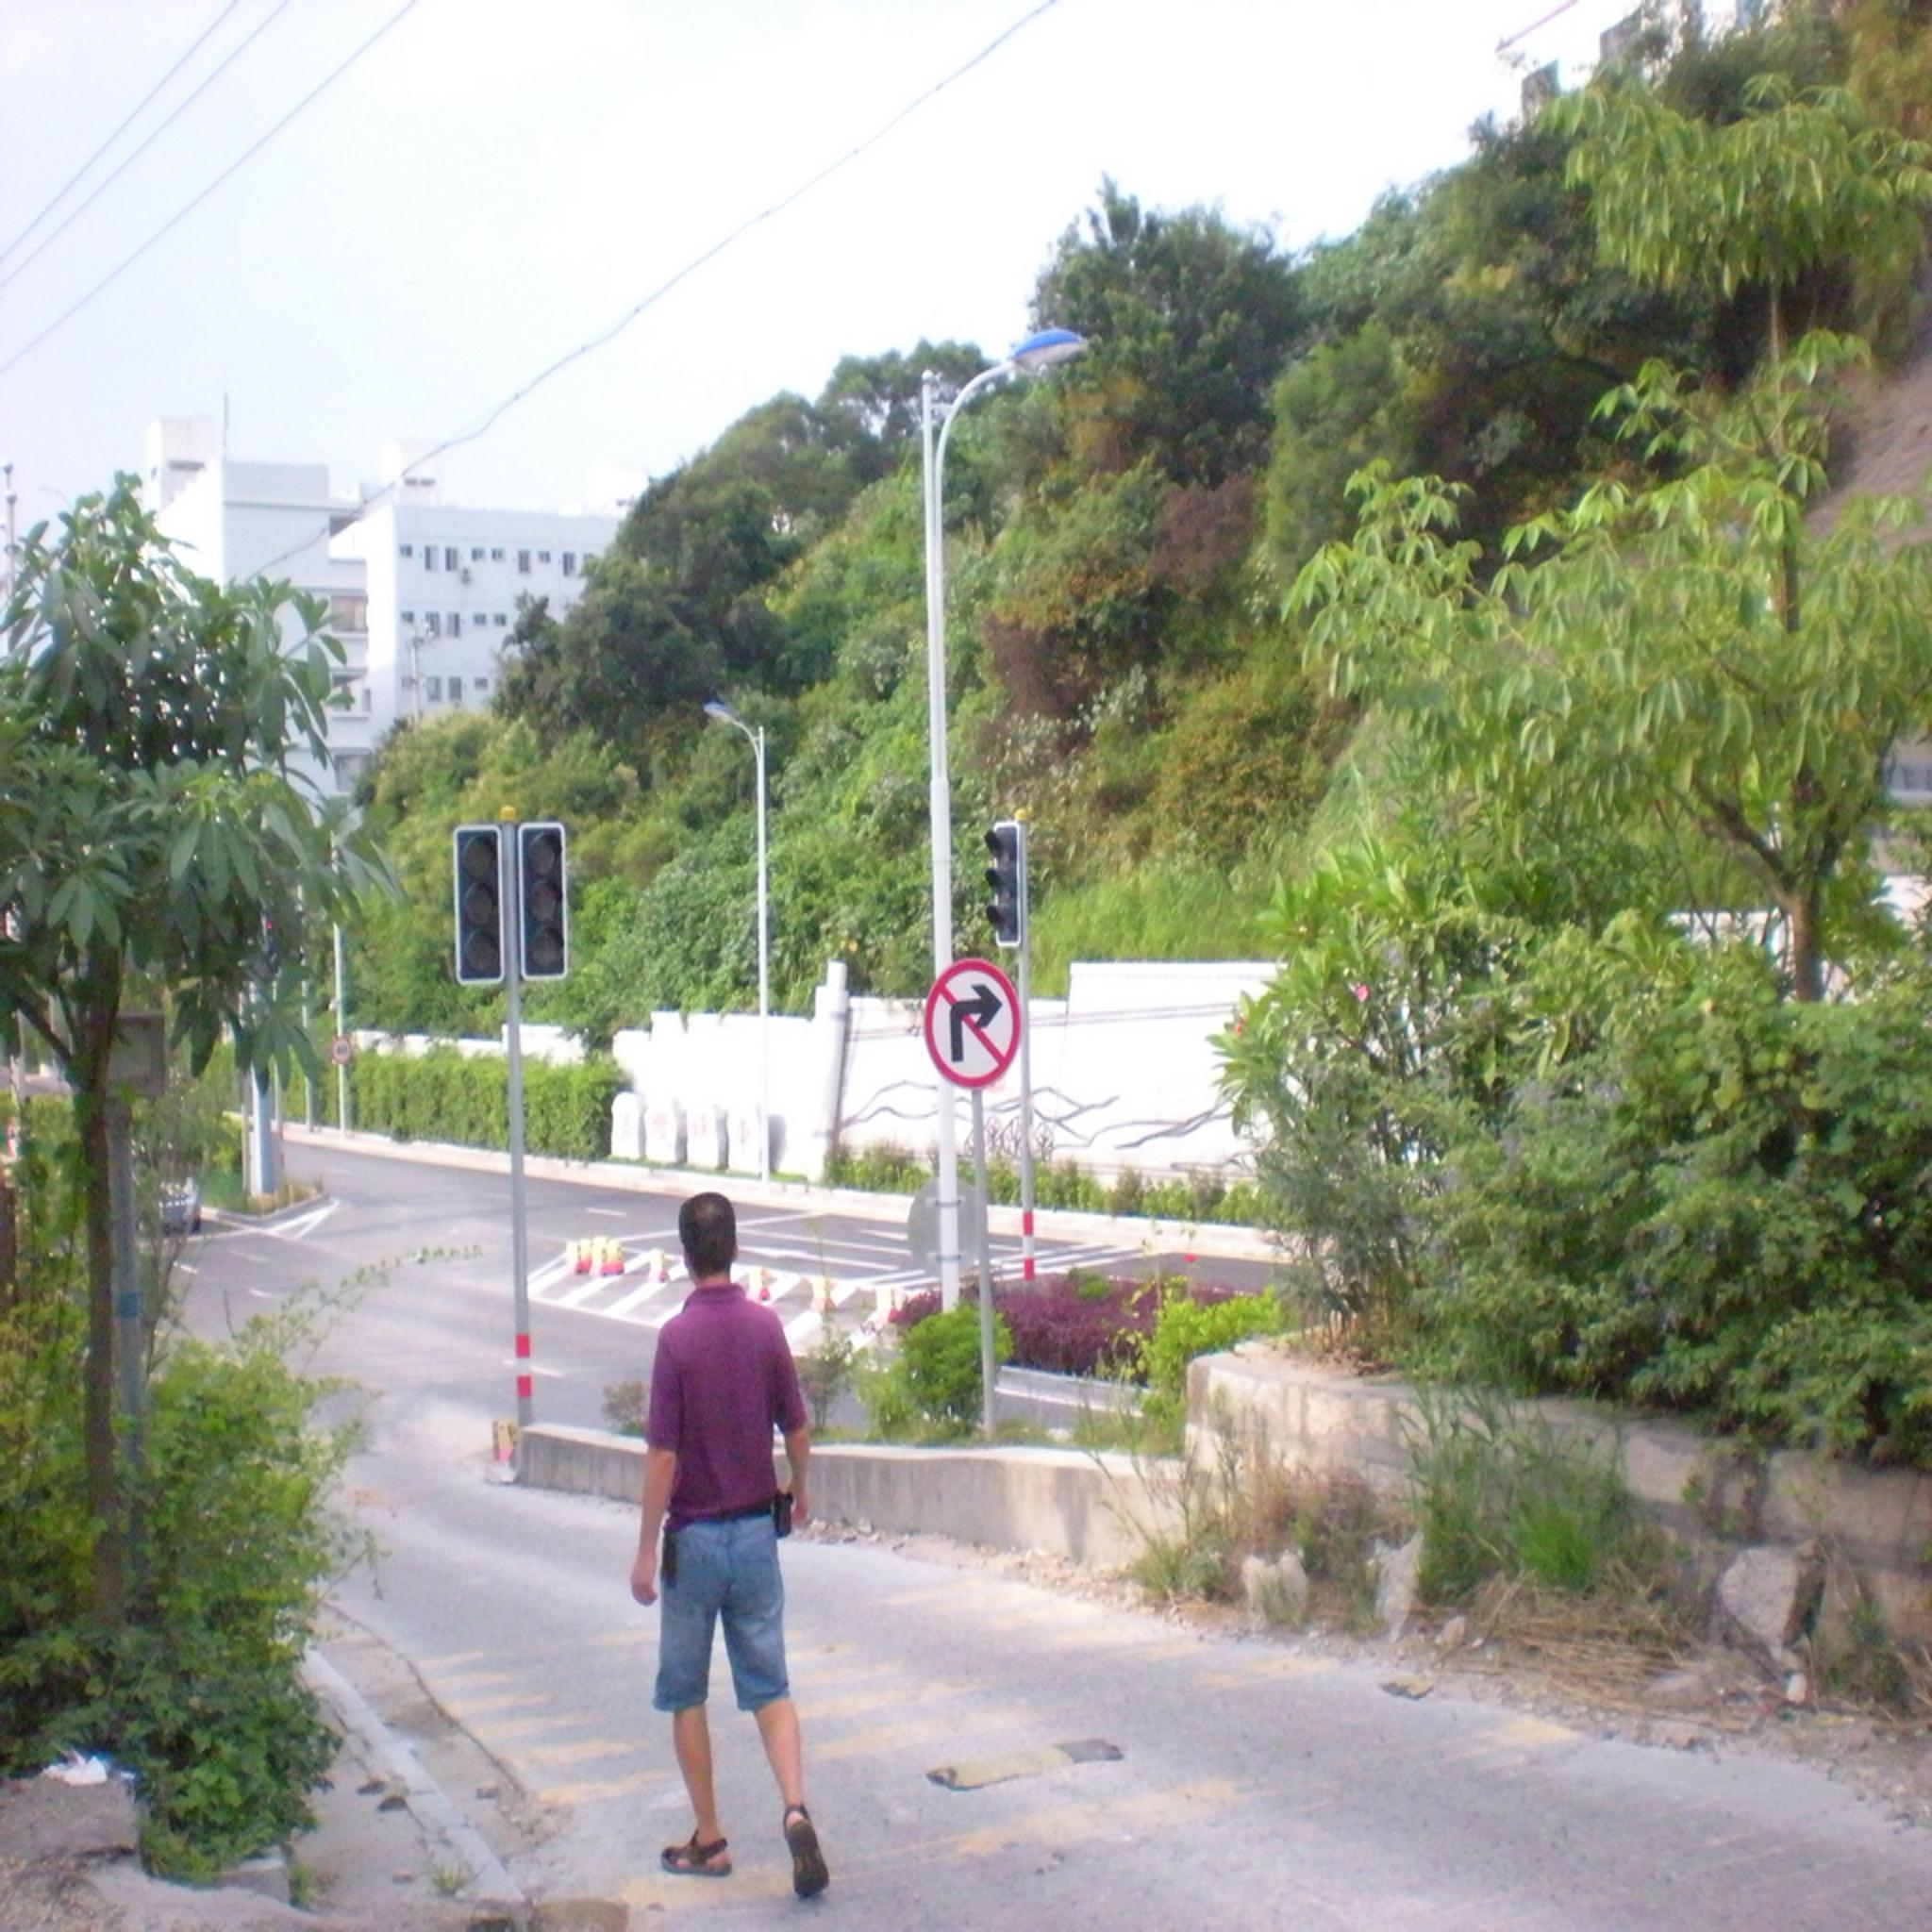p19: (918, 959, 1019, 1097)
